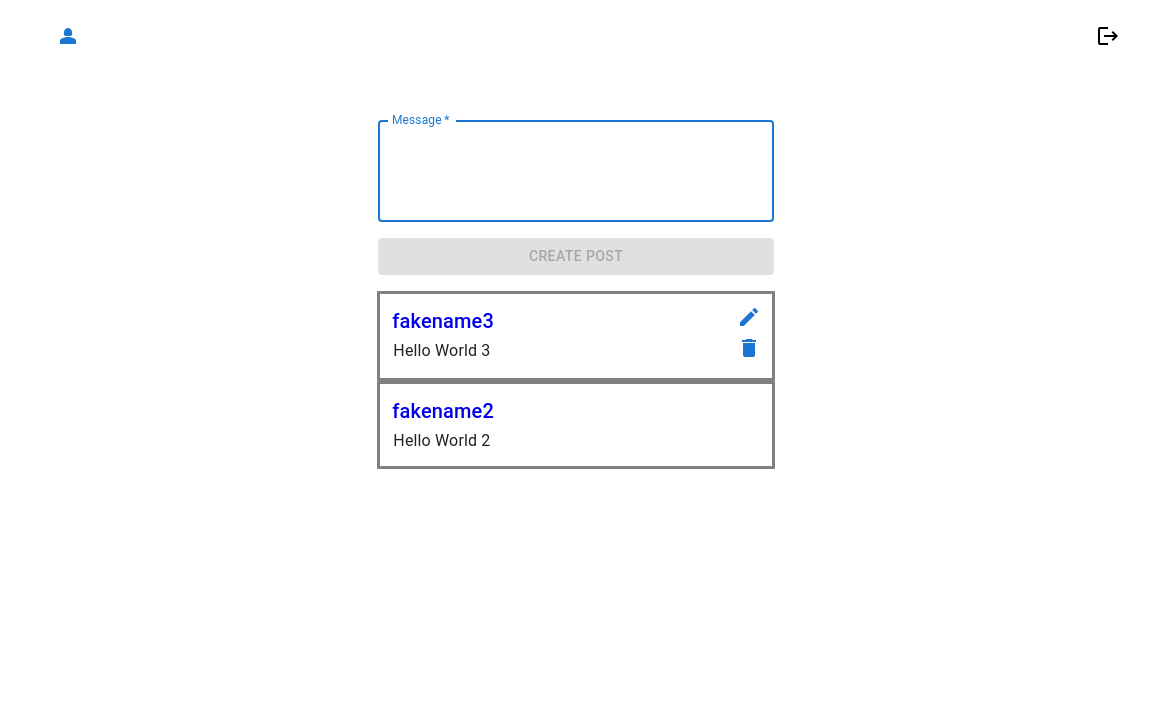
Test case: Update Post › should show original post text if cancel button is pressed
The image size is (1152, 720).
Click the link named "edit-icon" at (749, 320), box left=737, top=304, right=761, bottom=336
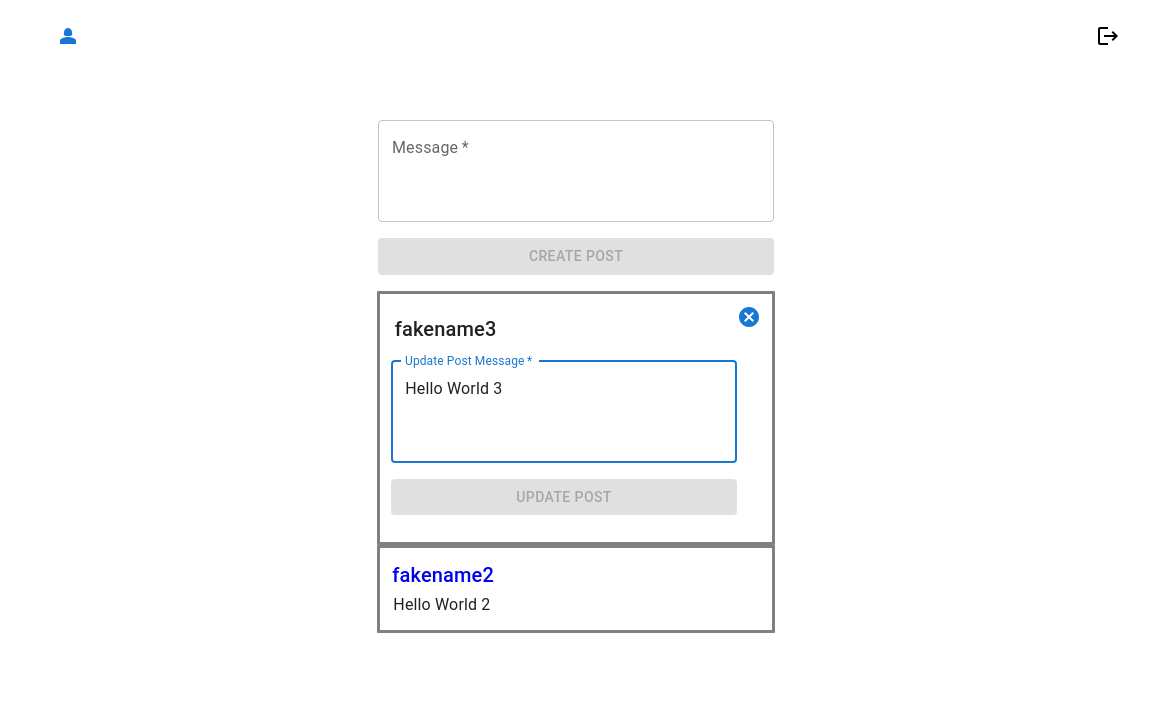
Type "Updated text" into the text box "Hello World 3" at (564, 412), box left=405, top=377, right=723, bottom=446
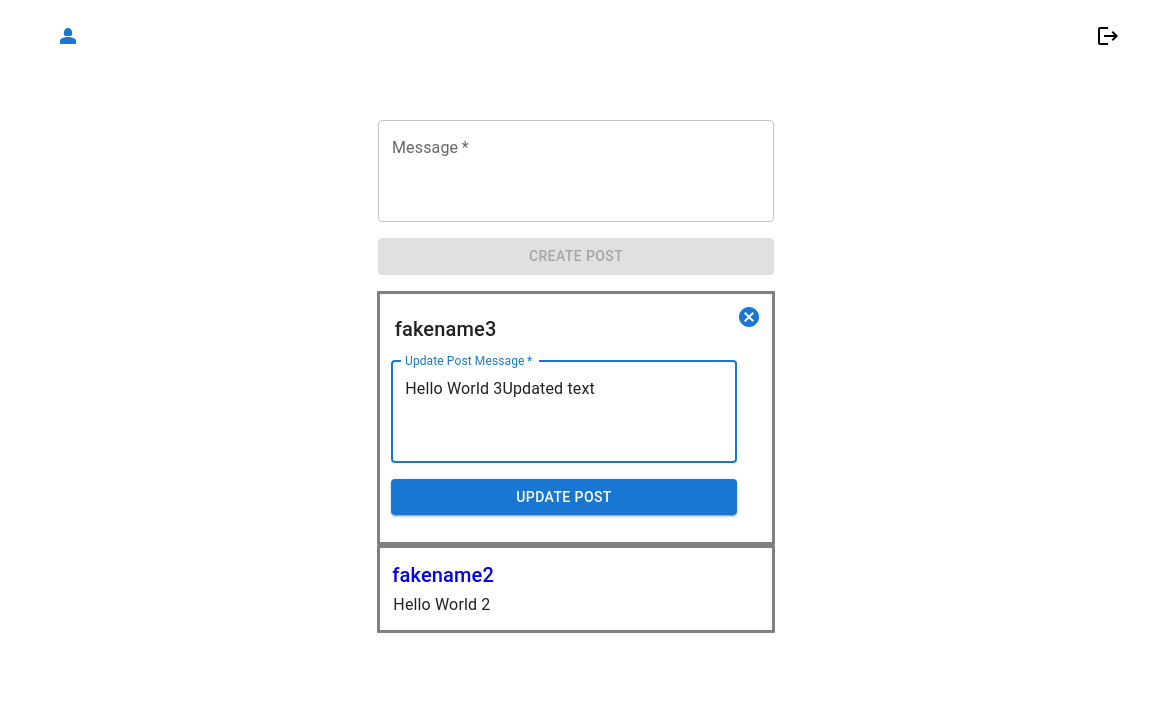
Click the link named "cancel-icon" at (749, 320), box left=737, top=304, right=761, bottom=336
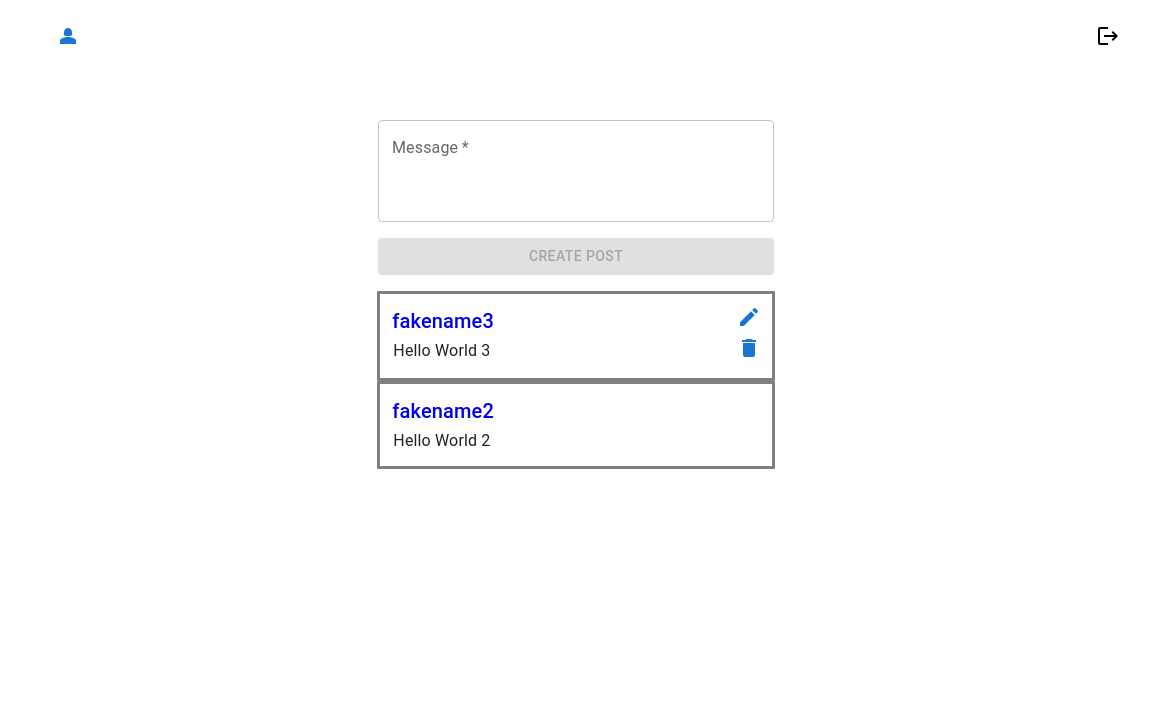
Check: the text "Hello World 3" is shown, box left=393, top=339, right=491, bottom=363
